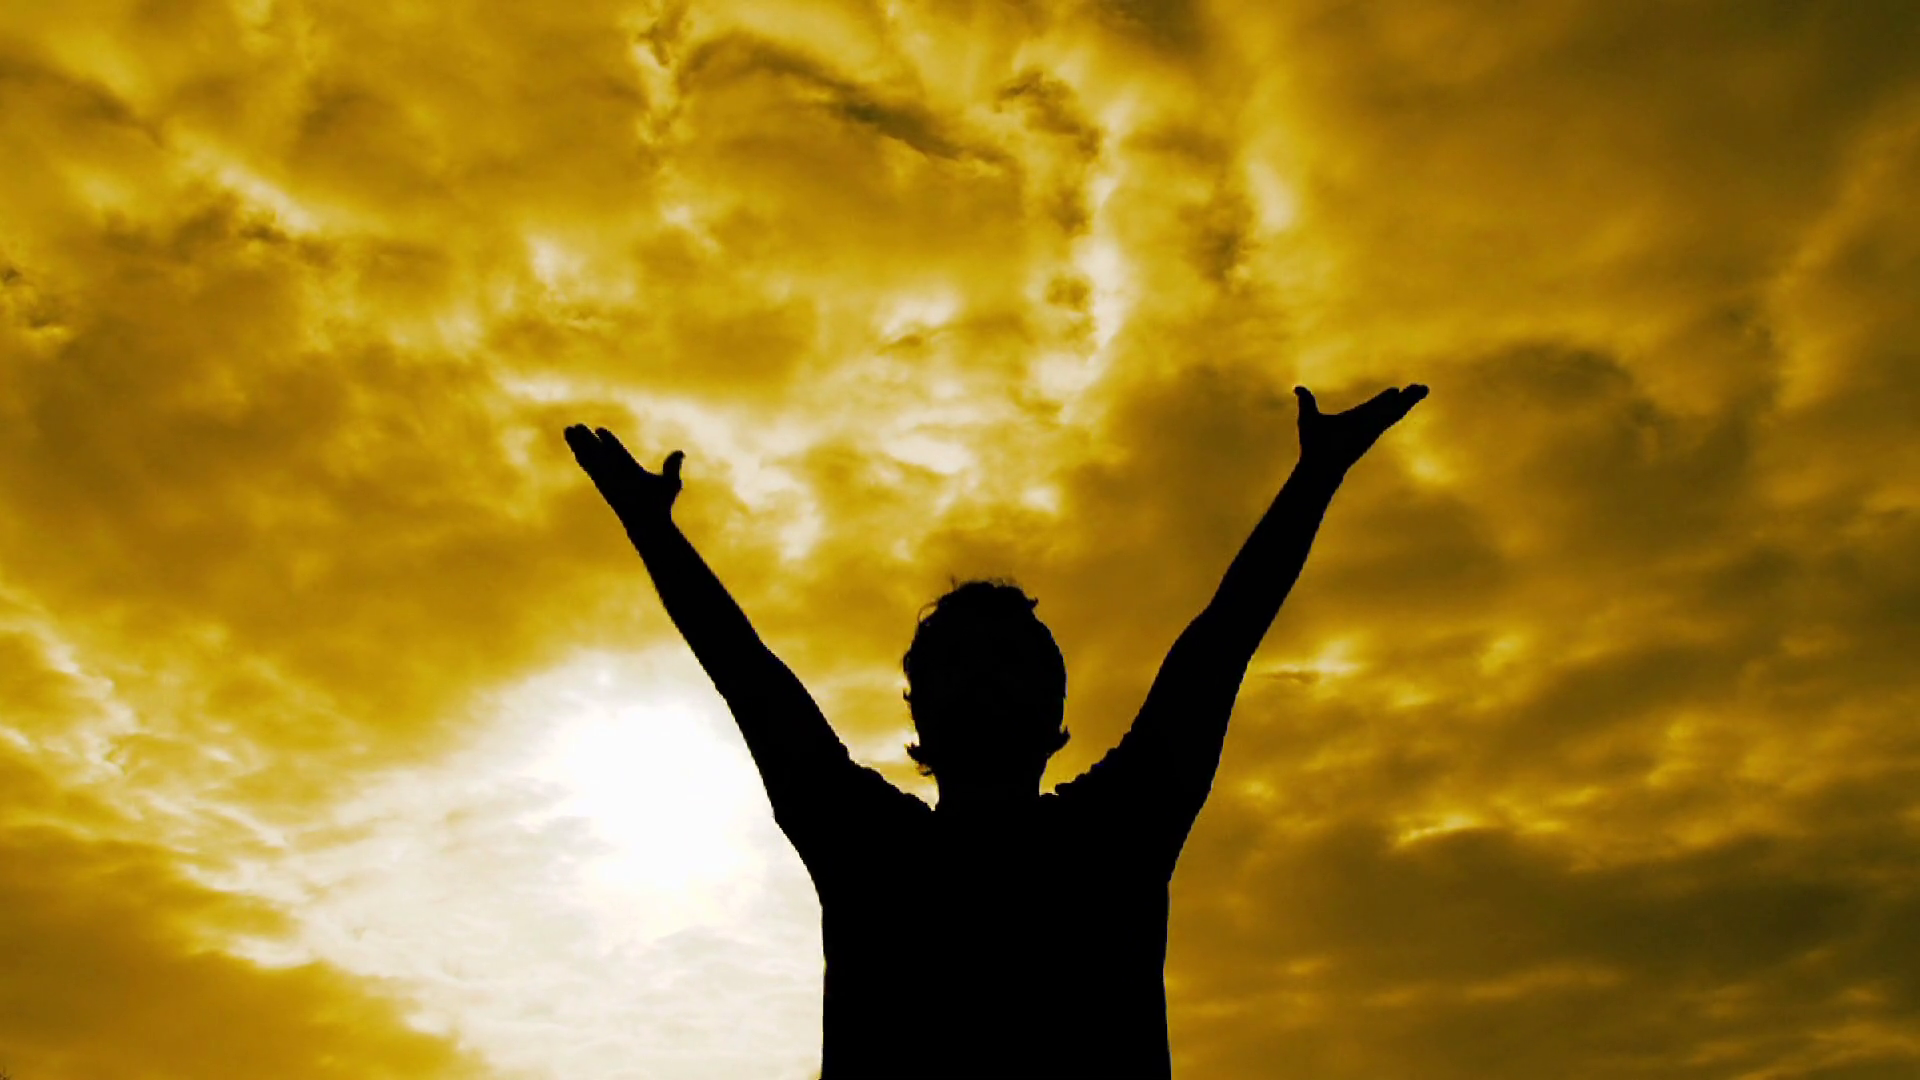human: (529, 344, 1462, 1080)
